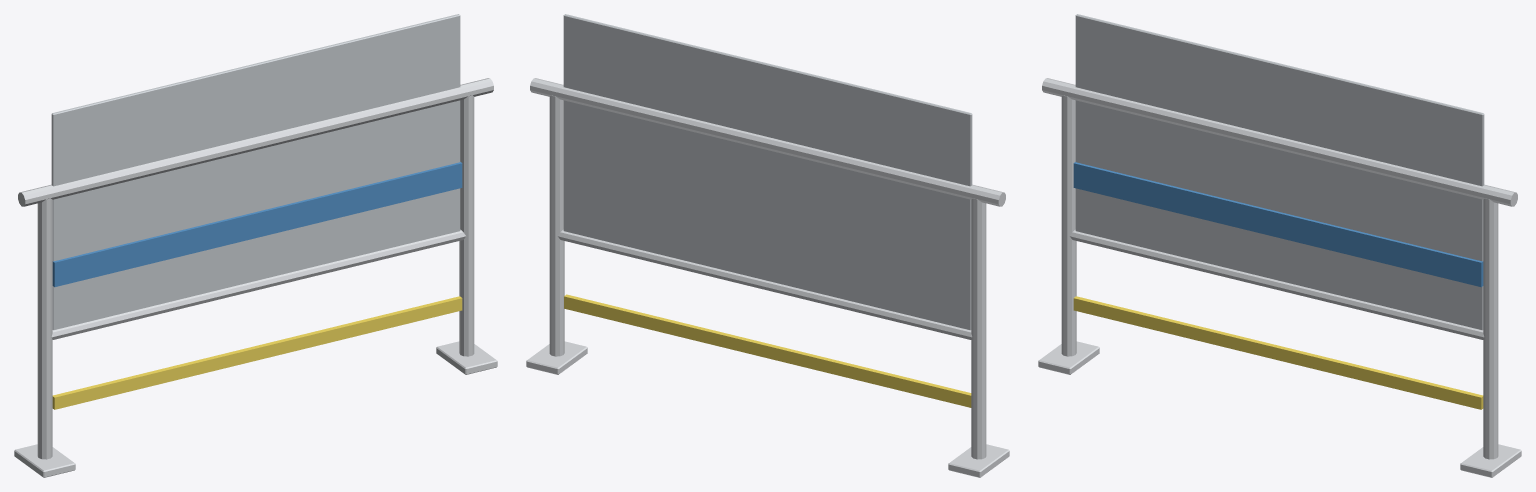
The model's file is public-swimming-baths-and-poolside-viewing-gallery-rai-2668c79c__35281.glb.
3 views of the same model, side by side, from view 1: azimuth 30°, elevation 25°; view 2: azimuth 150°, elevation 25°; view 3: azimuth 330°, elevation 25° (orthographic).
Visible parts, largest first — view 1: viewing-gallery-rail; view 2: viewing-gallery-rail; view 3: viewing-gallery-rail.
Part boxes in pixels (x1,y1,x2,y2): viewing-gallery-rail: (14, 14, 497, 477); viewing-gallery-rail: (526, 14, 1009, 477); viewing-gallery-rail: (1038, 14, 1521, 477).
Size of the model in its own units: 2 by 1.42 by 0.22.
